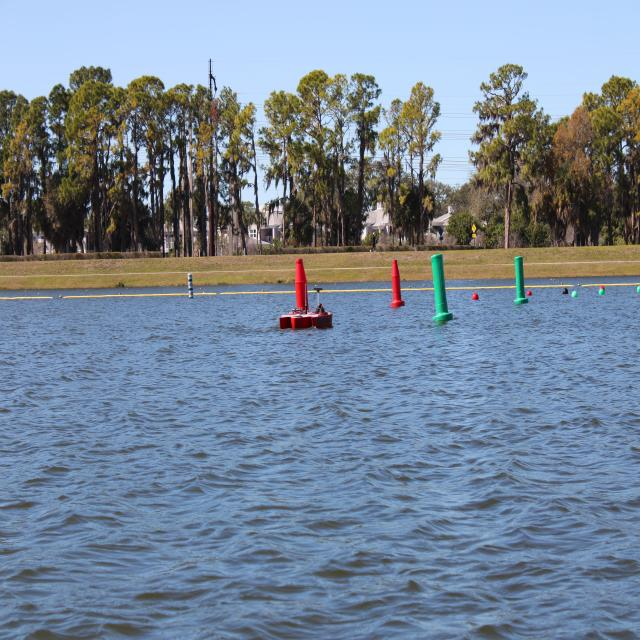green-buoy: (599, 288, 605, 296)
green-column-buoy: (431, 255, 452, 323), (515, 256, 529, 305)
red-buoy: (472, 292, 478, 300)
red-column-buoy: (391, 258, 404, 308)
